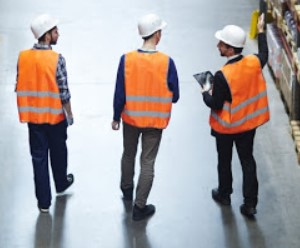worker: (208, 25, 270, 133), (124, 15, 172, 128), (17, 14, 65, 123)
